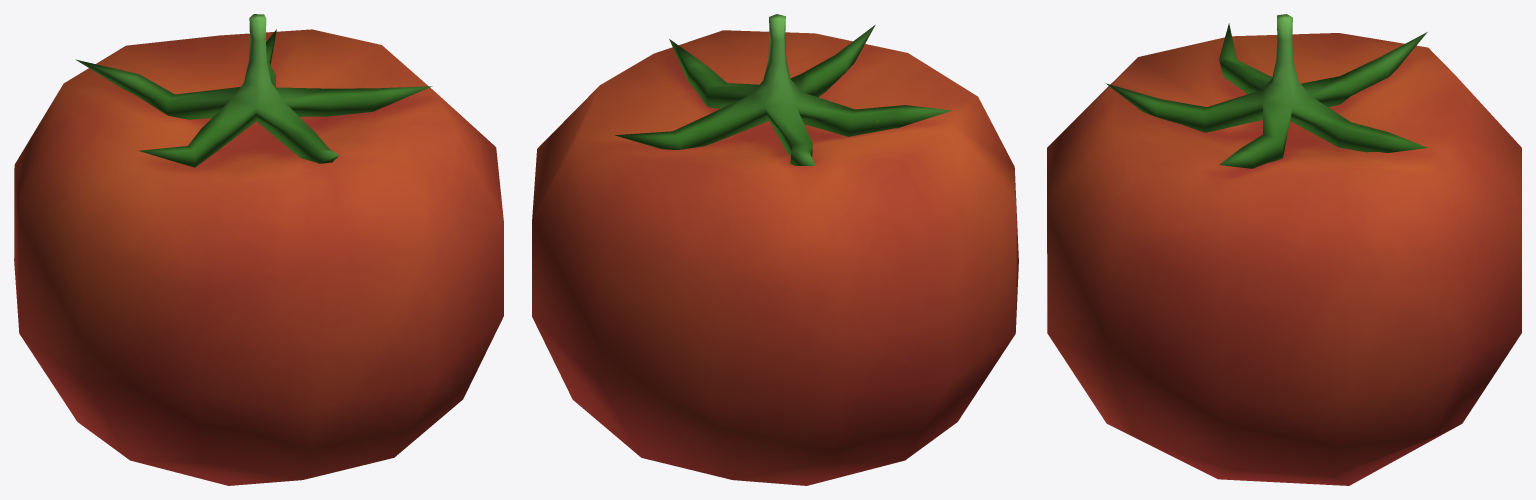
Rendered from TomatoSupermarket.fbx.
3 renders of one model, left to right at view 1: azimuth 30°, elevation 25°; view 2: azimuth 150°, elevation 25°; view 3: azimuth 270°, elevation 25°, orthographic.
Visible parts, largest first — view 1: TomatoSupermarket; view 2: TomatoSupermarket; view 3: TomatoSupermarket.
Boxes of the visible parts, bbox=[...] form: TomatoSupermarket: bbox=[14, 14, 503, 485]; TomatoSupermarket: bbox=[532, 14, 1018, 485]; TomatoSupermarket: bbox=[1047, 14, 1521, 485].
Size of the model in its own units: 67.35 by 68.48 by 67.36.
